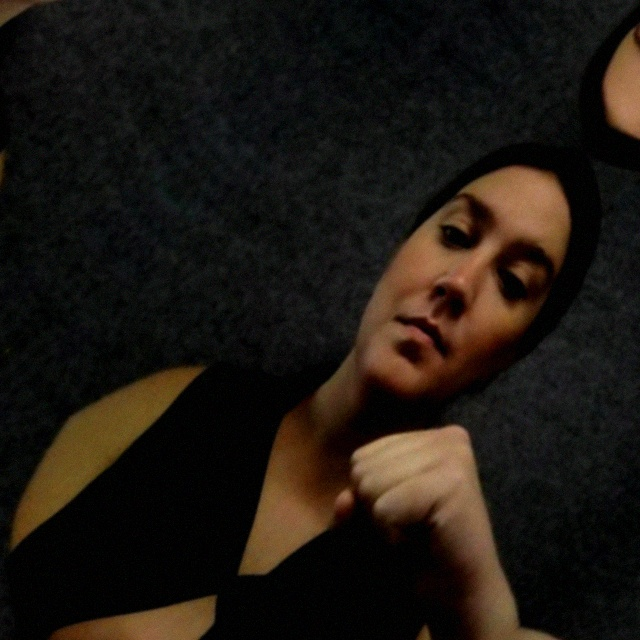Rock: (0, 0, 37, 98)
